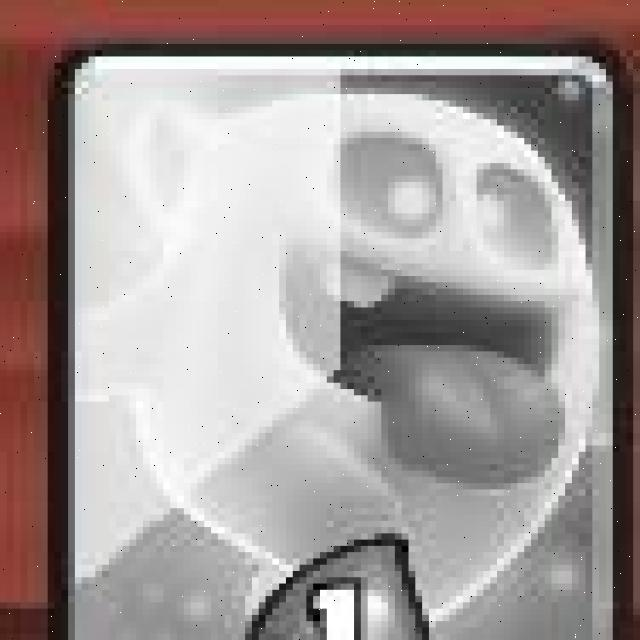Heal_Spirit: (53, 39, 612, 640)
